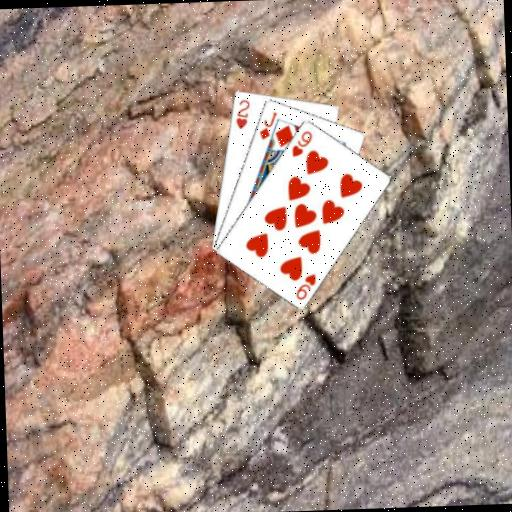2H: (232, 96, 252, 131)
9H: (287, 127, 314, 158), (292, 270, 318, 301)
JD: (255, 108, 279, 141)
